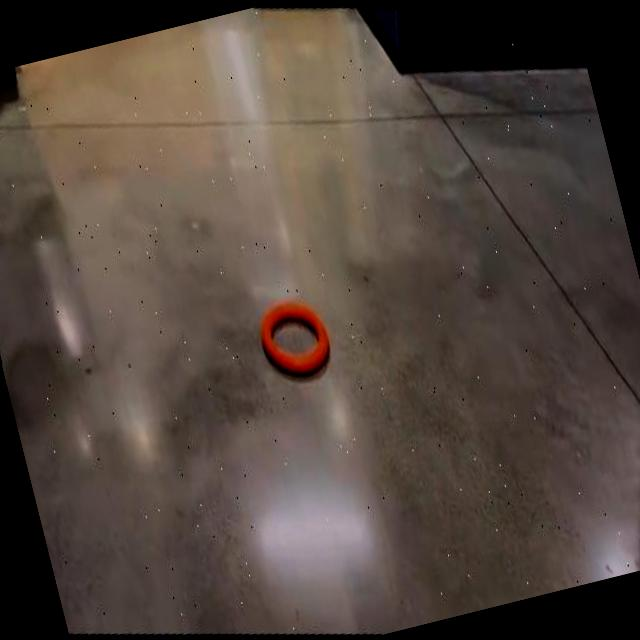note: (259, 303, 328, 373)
